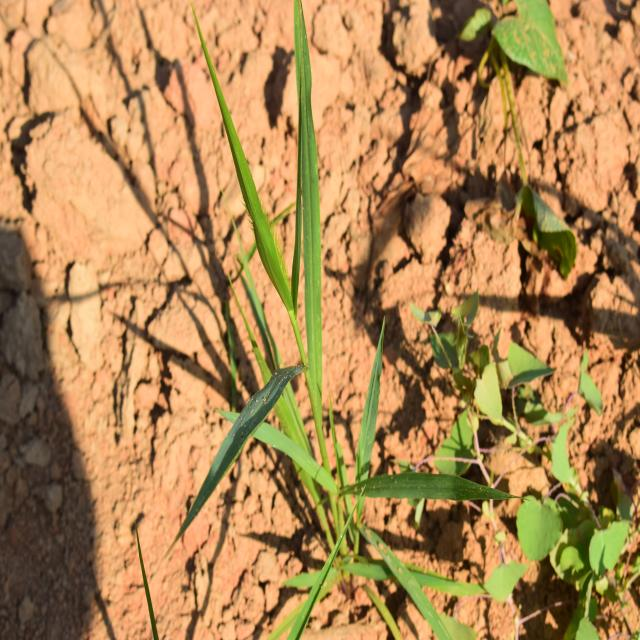green_foxtail: (176, 43, 441, 593)
